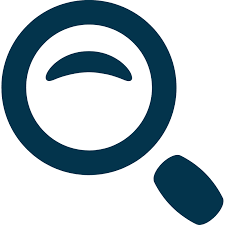searchIcon: (1, 1, 225, 225)
